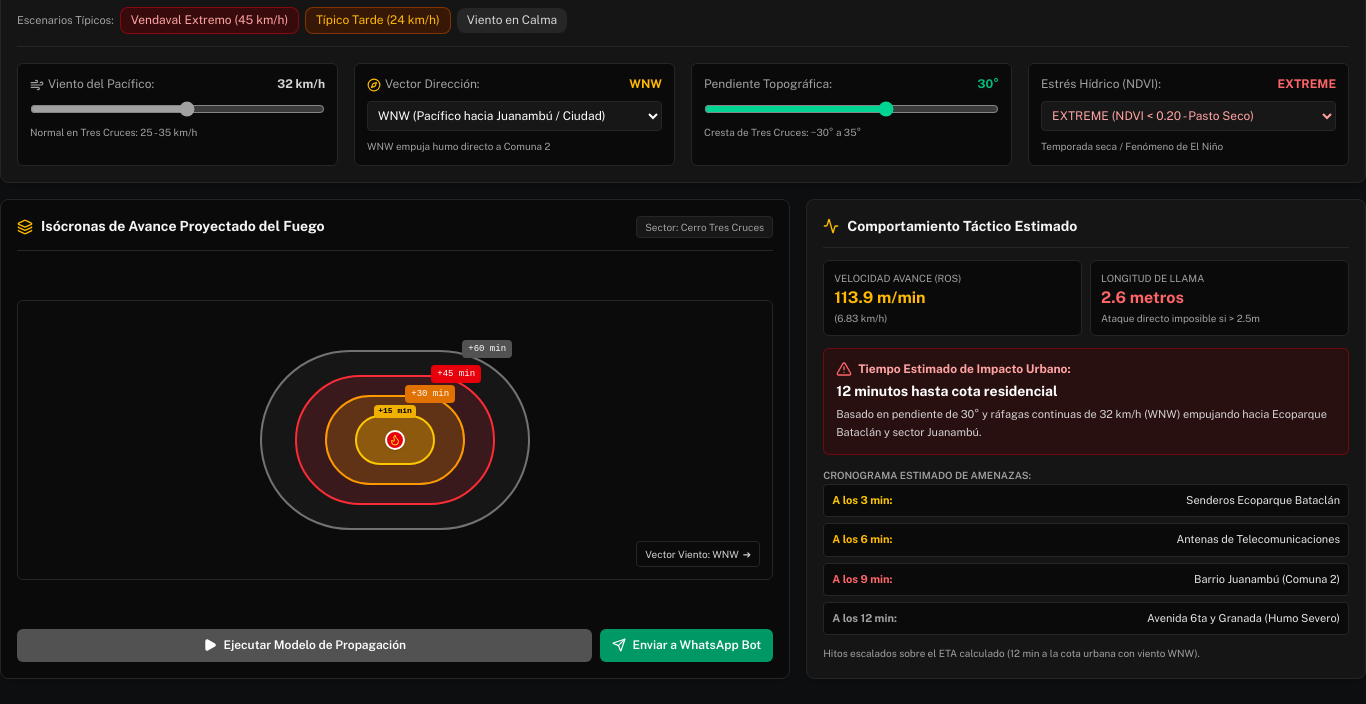
FireSpreadSimulator › ejecuta el modelo real en el servidor y pinta su resultado
Click the button "Ejecutar Modelo de Propagación" at (305, 645), box [17, 629, 592, 662]
(page scrolled)
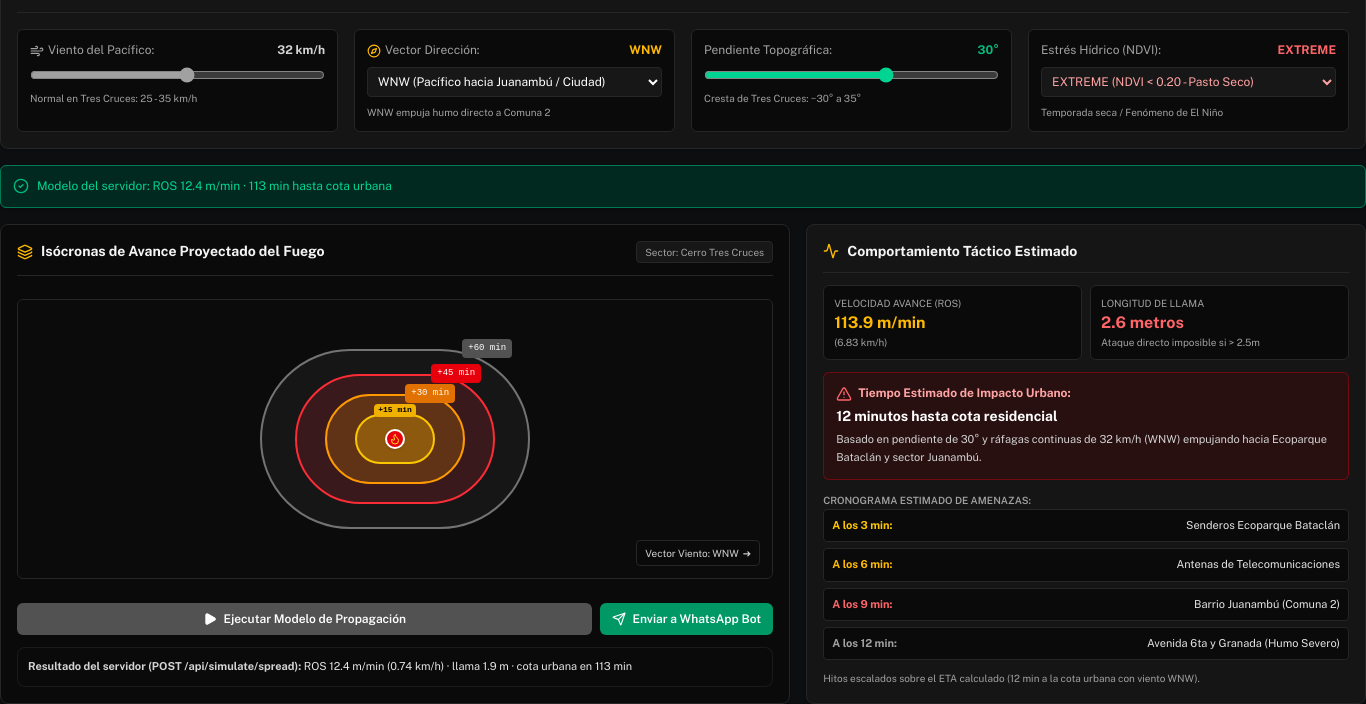
Result: the text "Resultado del servidor (POST /api/simulate/spread):" is shown at [28, 660, 301, 672]
